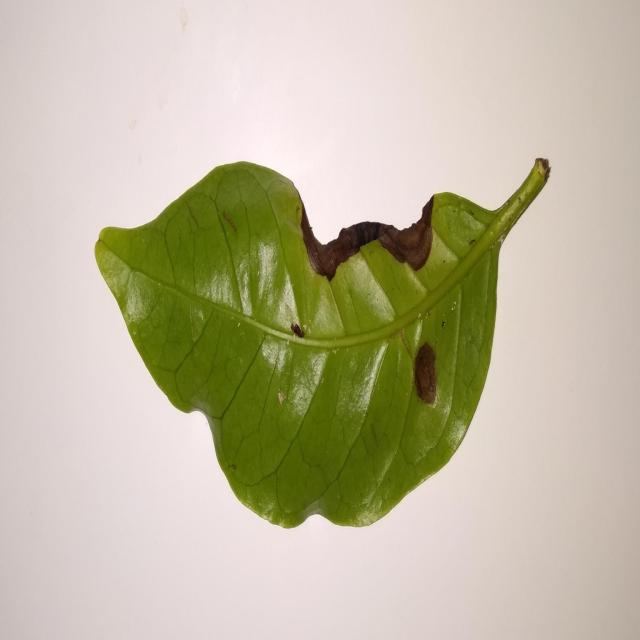Enfermedad-Antracnosis: (92, 159, 550, 531)
